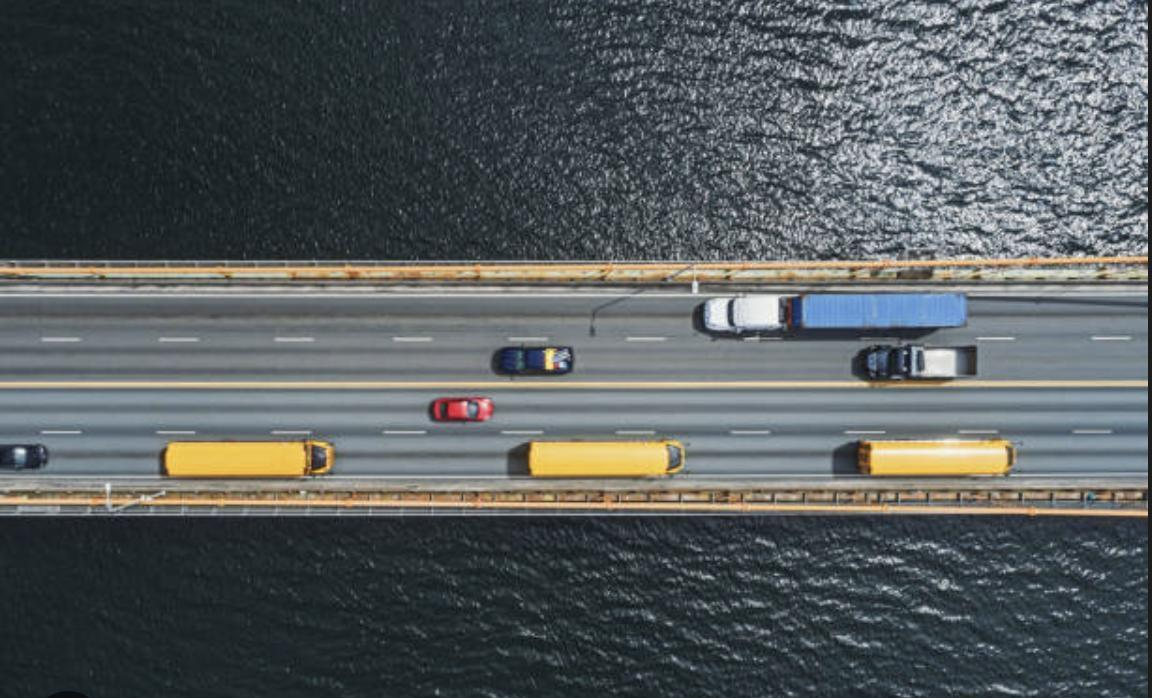Bus: (506, 439, 684, 477), (160, 439, 336, 477), (857, 439, 1015, 475)
Car: (490, 346, 574, 376), (430, 396, 493, 421), (1, 444, 47, 470)
